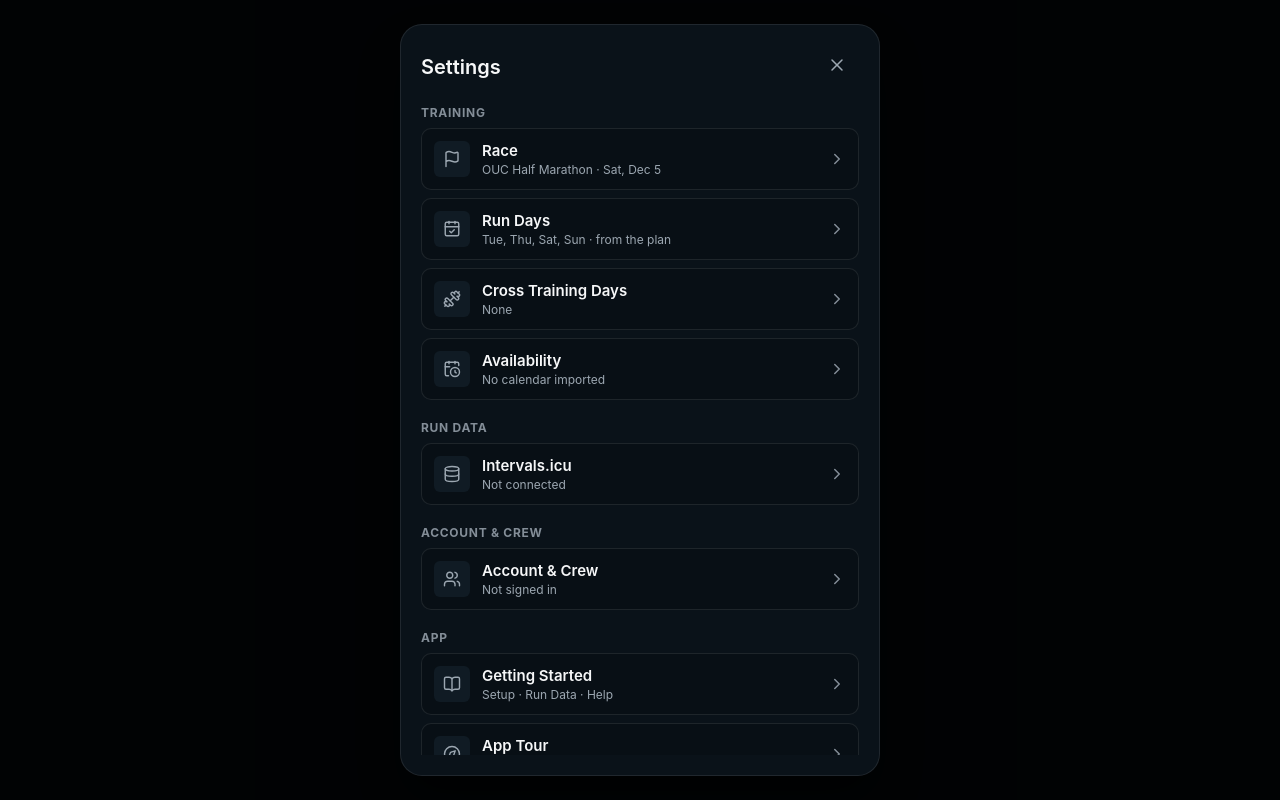
Test: setting up the race › warns when the race is too close for the distance, without refusing
What coordinates should you click on to do the following:
click the button "Race OUC Half Marathon · Sat, Dec 5"
I would click on:
 (640, 159)
Its box is [421, 128, 859, 190].
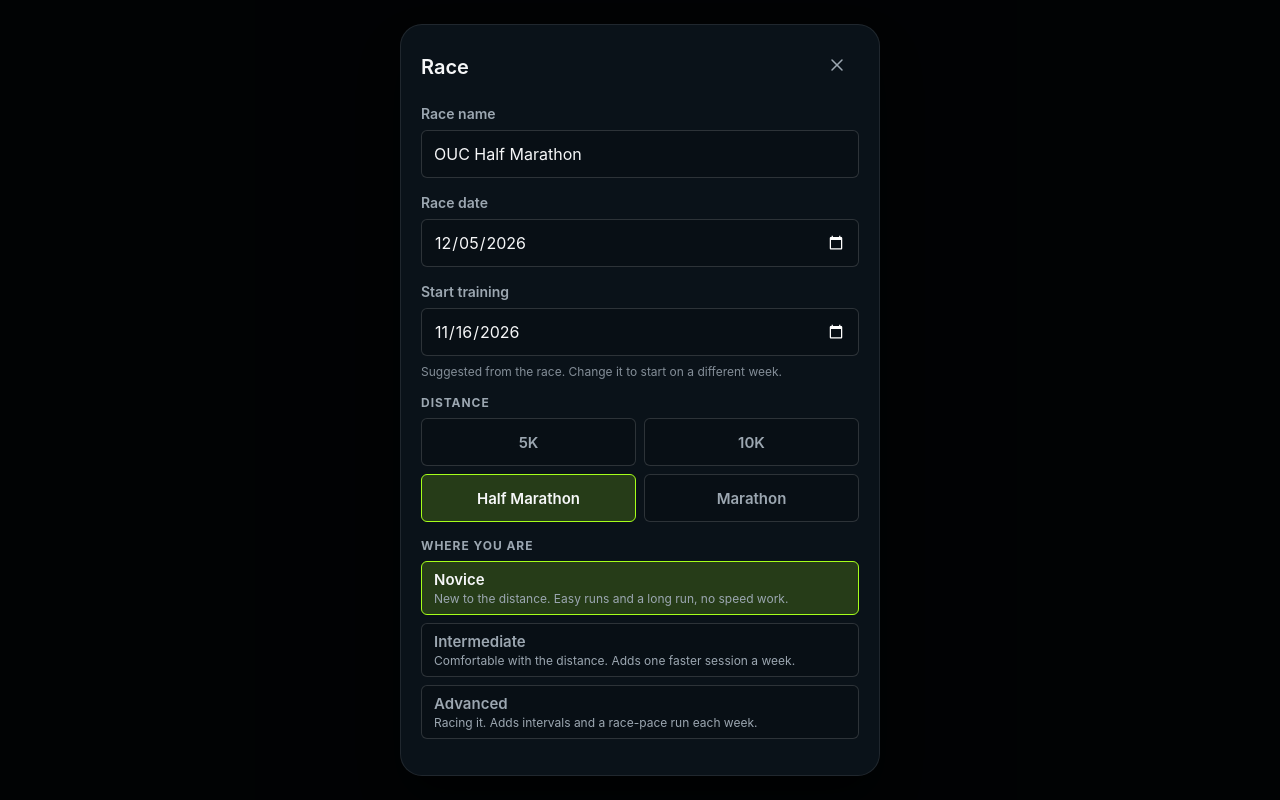
What coordinates should you click on to do the following:
click the button "Marathon"
I would click on:
 (752, 498)
Its box is [644, 474, 859, 522].
(page scrolled)
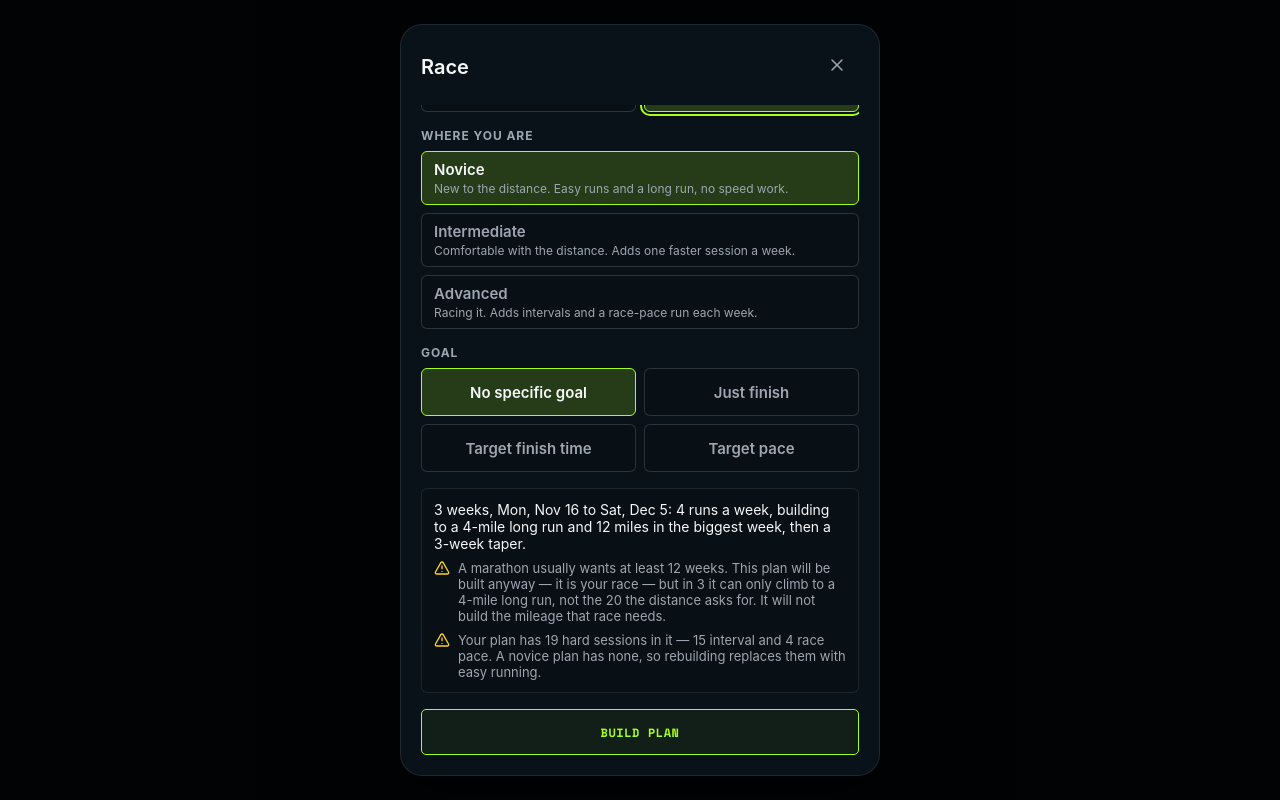
Result: the text "usually wants at least 12 weeks" is shown at [458, 560, 835, 624]
Result: the button "Build Plan" is enabled at [421, 709, 859, 755]
